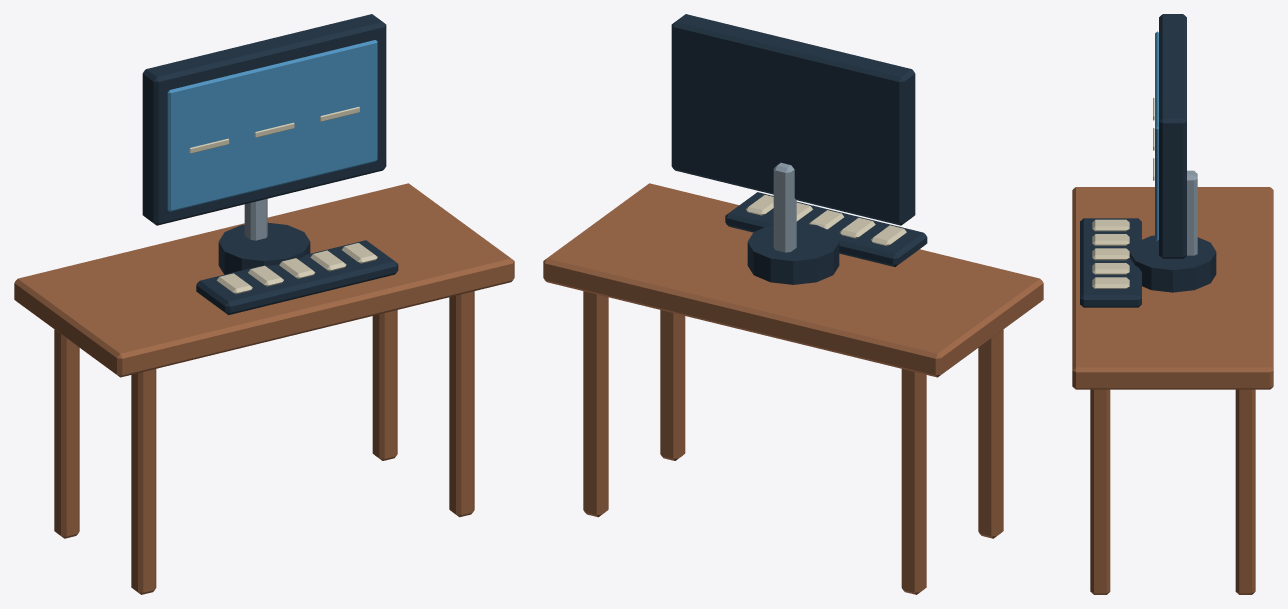
File: screens.glb
3 renders of one model, left to right at view 1: azimuth 30°, elevation 25°; view 2: azimuth 150°, elevation 25°; view 3: azimuth 270°, elevation 25°, orthographic. The views are drawn at different scales.
Visible parts, largest first — view 1: Base, Target0, Target1; view 2: Base, Target0, Target1; view 3: Base, Target0, Target1.
Boxes of the visible parts, <box> form: Base: <box>14,183,514,594</box>; Target0: <box>142,14,386,225</box>; Target1: <box>196,240,398,314</box>; Base: <box>543,162,1043,594</box>; Target0: <box>671,14,915,225</box>; Target1: <box>725,192,927,266</box>; Base: <box>1072,170,1273,594</box>; Target0: <box>1153,14,1186,258</box>; Target1: <box>1080,218,1141,307</box>.
Size of the model in its own units: 1.4 by 1.61 by 0.65.
